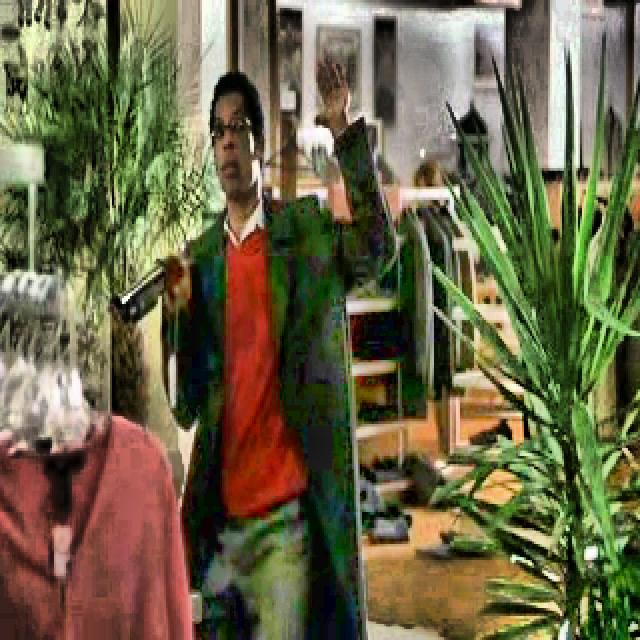L: (102, 51, 401, 631)
